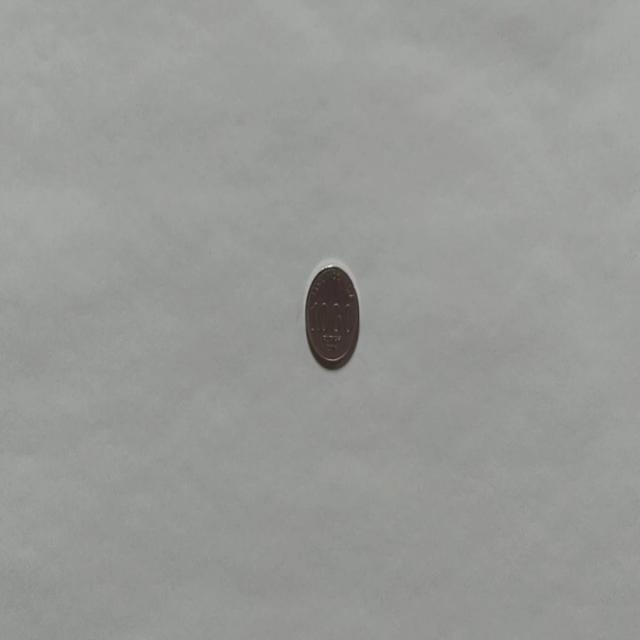seribu rupiah koin: (304, 260, 361, 370)
